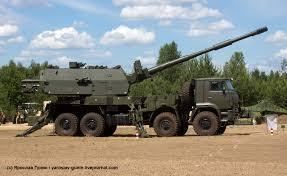sau: (12, 21, 277, 150)
